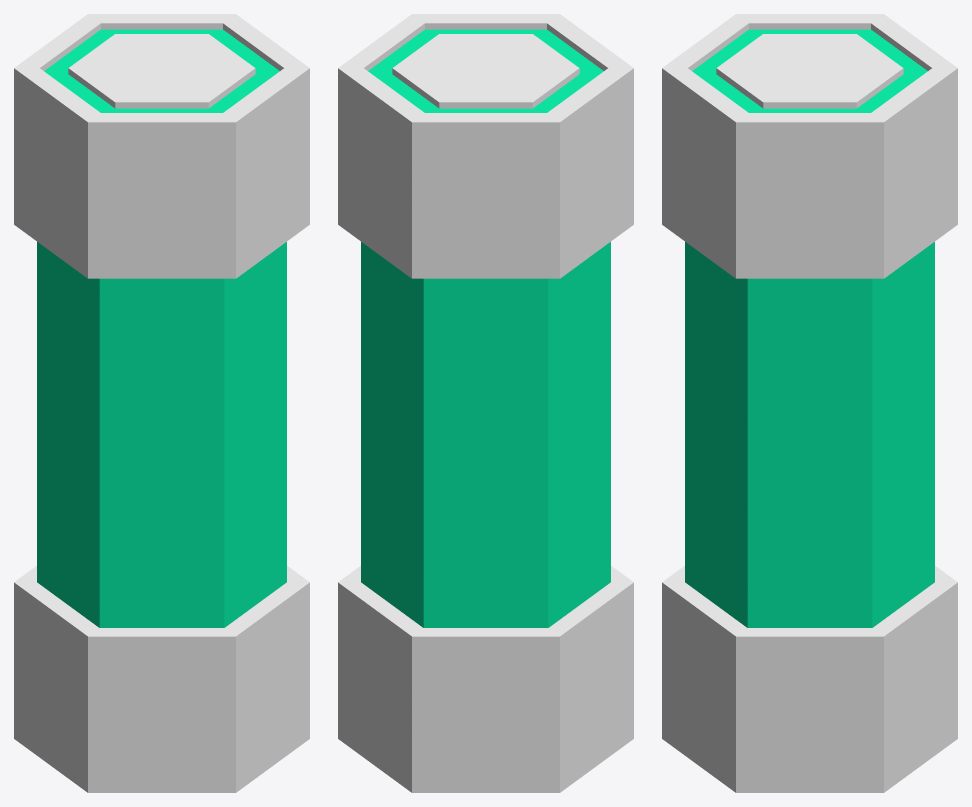
The model's file is Energy_Cell.fbx.
3 renders of one model, left to right at view 1: azimuth 30°, elevation 25°; view 2: azimuth 150°, elevation 25°; view 3: azimuth 270°, elevation 25°, orthographic.
Visible parts, largest first — view 1: Energy_Cell; view 2: Energy_Cell; view 3: Energy_Cell.
Boxes of the visible parts, x1,y1,x2,y2 form: Energy_Cell: (14, 14, 309, 792); Energy_Cell: (338, 14, 633, 792); Energy_Cell: (662, 14, 957, 792).
Bounding box in the file's own units: 34.64 × 100 × 40.
